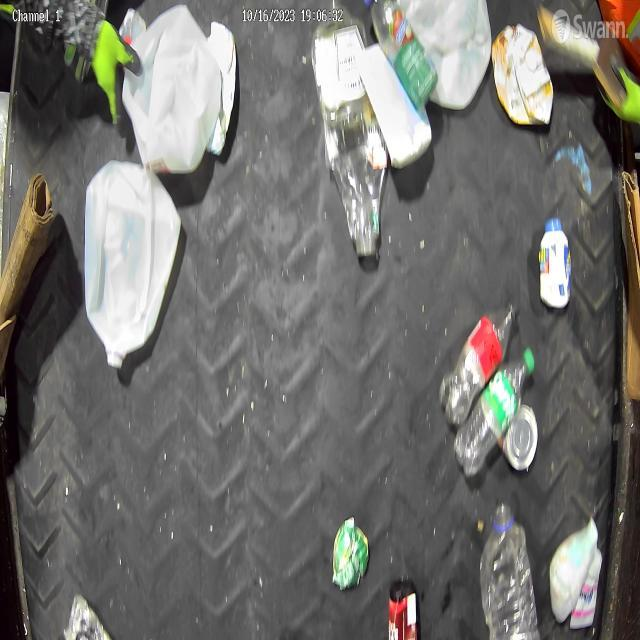can: (360, 27, 433, 166), (332, 516, 369, 594), (502, 408, 540, 473), (388, 574, 419, 640)
milk_jug: (83, 163, 181, 368), (122, 5, 223, 176), (398, 0, 493, 112)
non_white_jug: (491, 22, 554, 132)
plastic_bottle: (312, 11, 385, 259), (454, 348, 536, 478), (439, 298, 519, 428), (478, 502, 542, 640), (364, 0, 439, 110)
